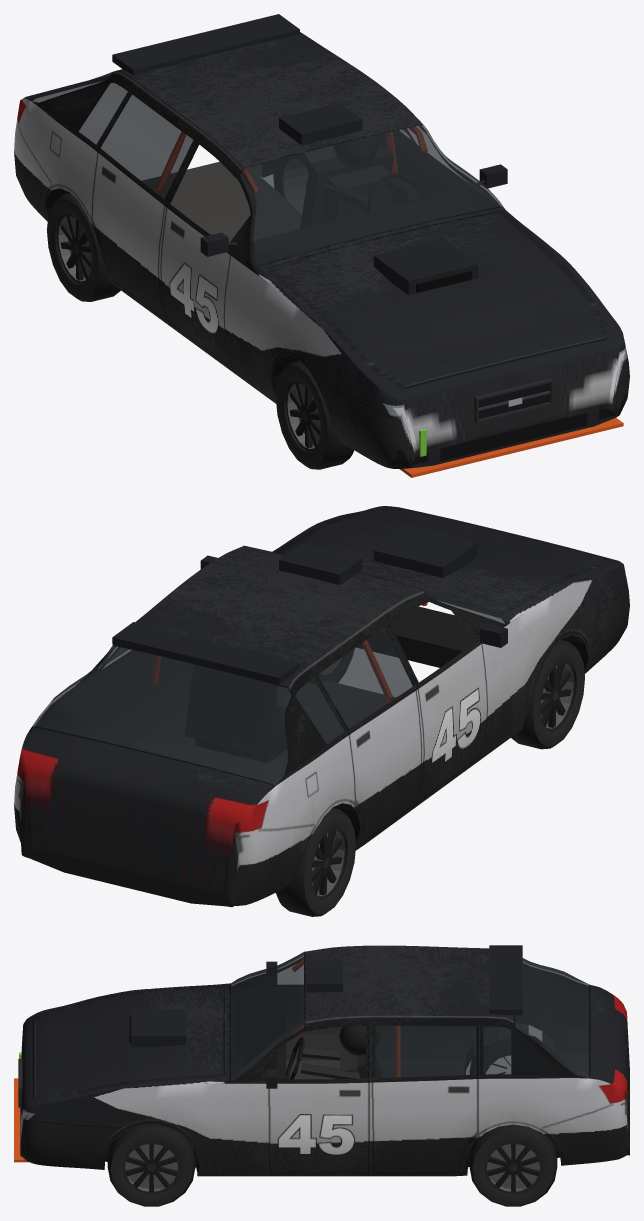
The picture shows the model from 3 angles, top to bottom: view 1: azimuth 30°, elevation 25°; view 2: azimuth 150°, elevation 25°; view 3: azimuth 270°, elevation 25°; orthographic projection. The views are drawn at different scales.
Parts seen in each view (by area): view 1: body, wheel_fr, wheel_rr, wheel_rl; view 2: body, wheel_rr, wheel_fr; view 3: body, wheel_rl, wheel_fl, wheel_rr.
Boxes of the visible parts, box(x1,y1,x2,y2) form: body: box(14, 14, 629, 477); wheel_fr: box(276, 360, 353, 469); wheel_rr: box(47, 193, 120, 301); wheel_rl: box(273, 153, 309, 214); body: box(14, 506, 629, 907); wheel_rr: box(276, 807, 355, 916); wheel_fr: box(511, 640, 584, 749); body: box(14, 945, 629, 1176); wheel_rl: box(469, 1124, 557, 1206); wheel_fl: box(107, 1124, 195, 1206); wheel_rr: box(470, 1035, 552, 1074).
Size of the model in its own units: 1.98 by 1.49 by 4.46.
Materials: 2 (1 with a texture image).
